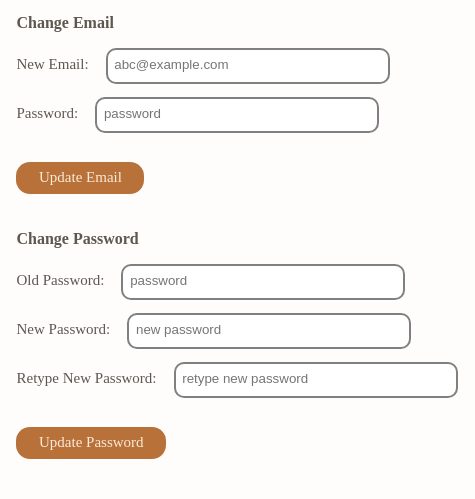
Test: EditProfileForm › failed password change shows error
The width and height of the screenshot is (475, 499).
Type "oldpw" into the password field with placeholder "password" next to "Old Password:". click: (264, 282)
box: [122,264,406,300]
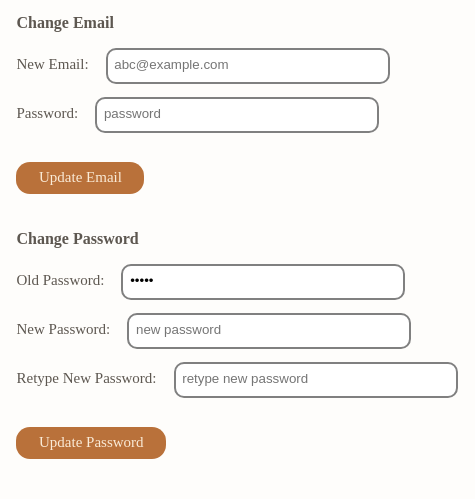
Type "Newpass123" into the password field with placeholder "new password". click: (269, 331)
box: [127,313,411,349]
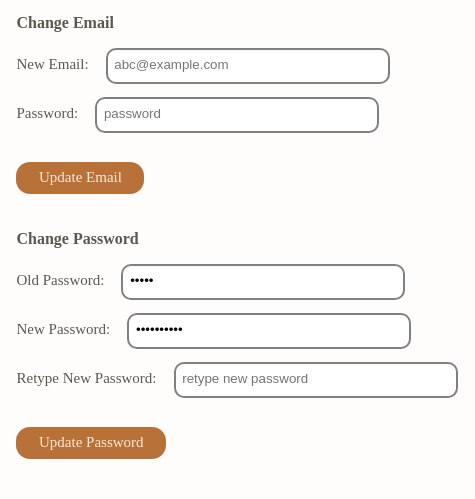
Type "Newpass123" into the password field with placeholder "retype new password". click: (316, 380)
box: [174,362,458,398]
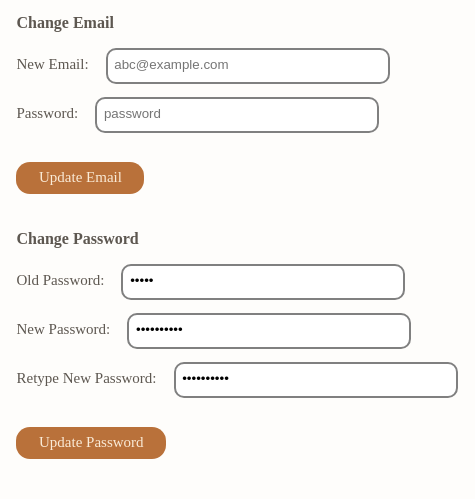
Click the button "Update Password". click: (91, 443)
box: [16,427,166,459]
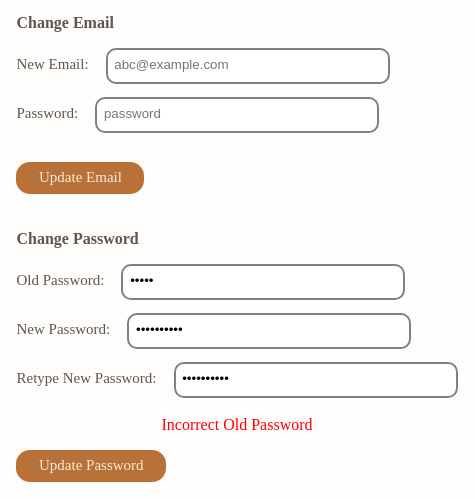
Expected: the text "Incorrect Old Password" is shown, [162,416,313,433]
